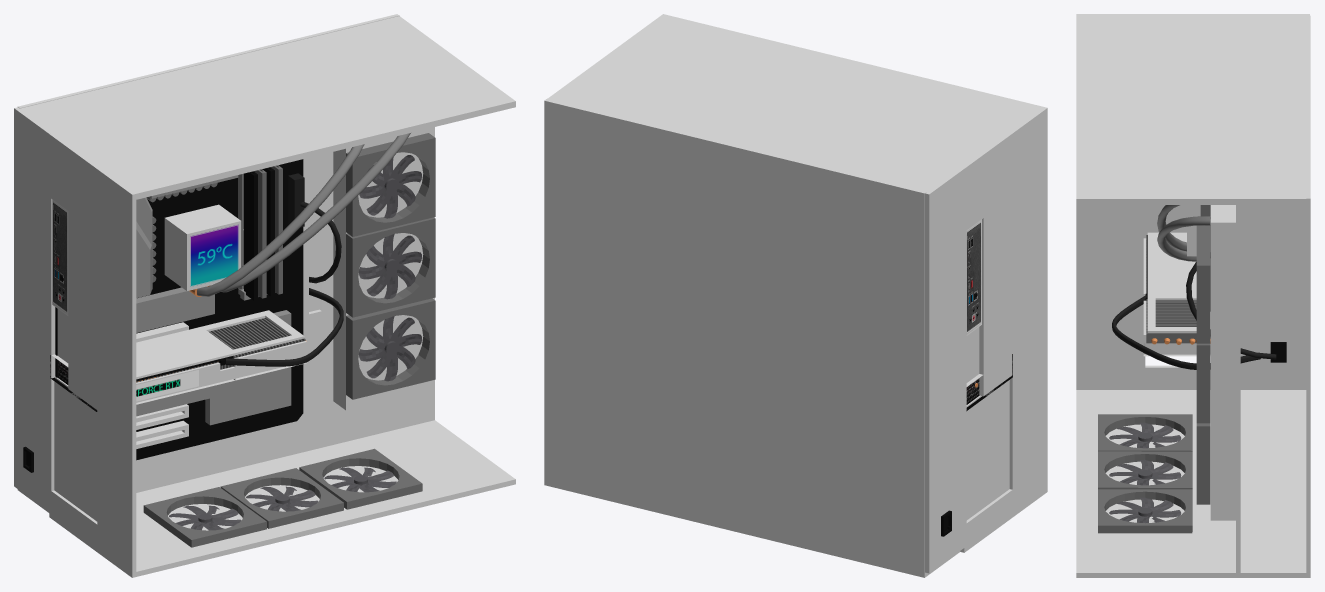
The picture shows the model from 3 angles, left to right: view 1: azimuth 30°, elevation 25°; view 2: azimuth 150°, elevation 25°; view 3: azimuth 270°, elevation 25°; orthographic projection.
Parts seen in each view (by area): view 1: Куб.009, Куб, Куб.011, Куб.007, Куб.018, Куб.023, Куб.022, Куб.021, Куб.010, Куб.026, Куб.024, Куб.025 (+22 smaller); view 2: Куб.009, Плоскость.003; view 3: Куб.009, Куб.011, Куб.018, Куб.024, Куб.025, Куб.026, Куб.021, Куб.017, Куб.023, Куб.022, Цилиндр.019, КриваяБезье.002 (+8 smaller).
Part boxes in pixels (bbox=[...]): Куб.009: bbox=[14, 14, 515, 577]; Куб: bbox=[55, 159, 303, 460]; Куб.011: bbox=[333, 128, 429, 410]; Куб.007: bbox=[136, 310, 291, 425]; Куб.018: bbox=[136, 310, 304, 379]; Куб.023: bbox=[346, 298, 435, 399]; Куб.022: bbox=[346, 217, 435, 317]; Куб.021: bbox=[346, 133, 435, 236]; Куб.010: bbox=[164, 204, 241, 290]; Куб.026: bbox=[143, 487, 266, 547]; Куб.024: bbox=[299, 448, 422, 509]; Куб.025: bbox=[220, 468, 343, 528]; Куб.009: bbox=[544, 14, 1047, 577]; Плоскость.003: bbox=[966, 219, 981, 335]; Куб.009: bbox=[1076, 14, 1310, 577]; Куб.011: bbox=[1210, 205, 1235, 520]; Куб.018: bbox=[1147, 232, 1210, 332]; Куб.024: bbox=[1098, 489, 1192, 533]; Куб.025: bbox=[1098, 451, 1192, 489]; Куб.026: bbox=[1098, 414, 1192, 451]; Куб.021: bbox=[1196, 225, 1210, 343]; Куб.017: bbox=[1146, 240, 1210, 343]; Куб.023: bbox=[1196, 423, 1210, 504]; Куб.022: bbox=[1196, 343, 1210, 423]; Цилиндр.019: bbox=[1109, 497, 1181, 523]; КриваяБезье.002: bbox=[1112, 295, 1260, 369].
Bounding box in the file's own units: 6.36 × 6.03 × 3.38.
Materials: 46 (4 with a texture image).
